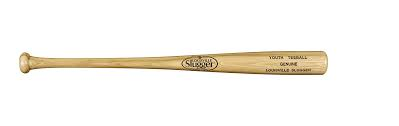bat: (19, 50, 329, 76)
